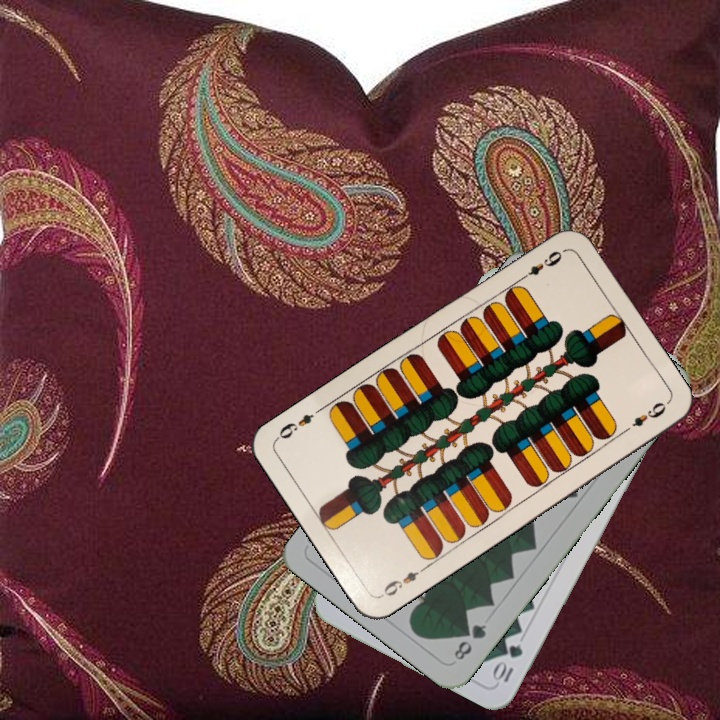E9: (515, 245, 568, 284), (377, 562, 430, 600)
G10: (490, 639, 526, 687)
G8: (449, 620, 489, 663)
